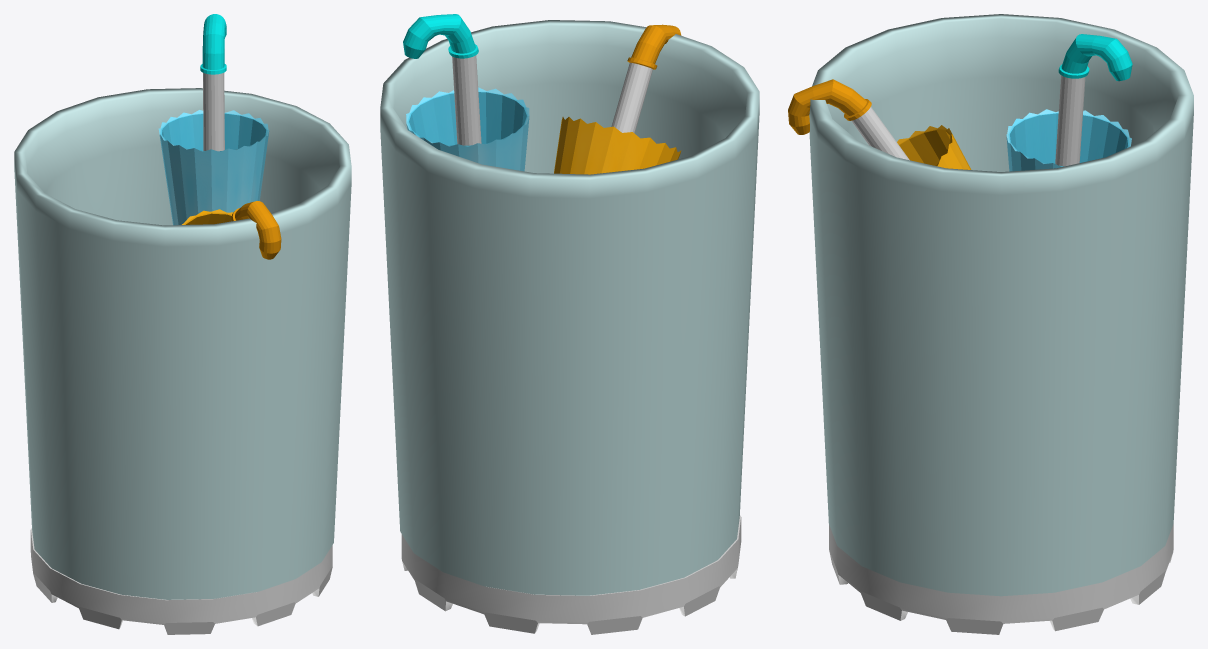
Rendered from unbrelahholder.fbx.
The picture shows the model from 3 angles, left to right: view 1: azimuth 30°, elevation 25°; view 2: azimuth 150°, elevation 25°; view 3: azimuth 270°, elevation 25°; orthographic projection. The views are drawn at different scales.
Visible parts, largest first — view 1: polySurface2, umbrala1, polySurface1, umbrala; view 2: polySurface2, polySurface1, umbrala1, umbrala; view 3: polySurface2, polySurface1, umbrala1, umbrala.
Boxes of the visible parts, bbox=[...] form: polySurface2: bbox=[14, 88, 351, 599]; umbrala1: bbox=[158, 14, 269, 225]; polySurface1: bbox=[30, 528, 332, 634]; umbrala: bbox=[182, 201, 281, 259]; polySurface2: bbox=[380, 20, 759, 595]; polySurface1: bbox=[401, 515, 741, 634]; umbrala1: bbox=[403, 14, 529, 171]; umbrala: bbox=[554, 24, 681, 174]; polySurface2: bbox=[809, 14, 1193, 596]; polySurface1: bbox=[829, 524, 1173, 634]; umbrala1: bbox=[1006, 34, 1132, 171]; umbrala: bbox=[788, 79, 971, 169].
Size of the model in its own units: 2.24 by 3.65 by 2.35.
Materials: 6 (2 with a texture image).
